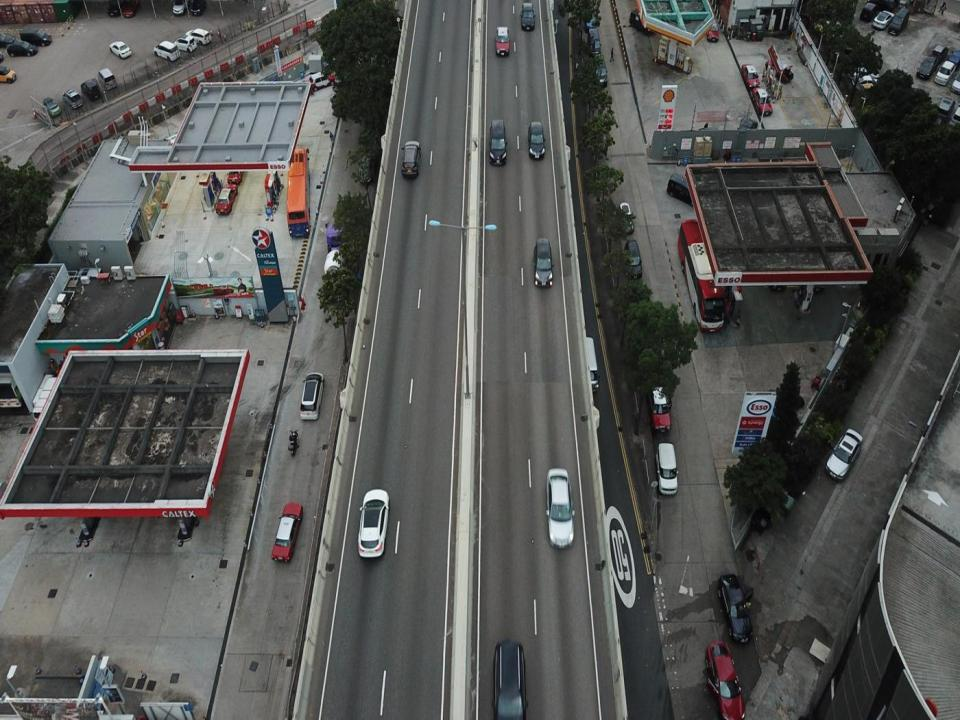bus: (676, 218, 726, 332)
car: (704, 641, 747, 719), (491, 638, 530, 719), (543, 469, 578, 552), (718, 569, 755, 647), (355, 487, 390, 559), (820, 426, 864, 481), (270, 498, 303, 559), (656, 441, 680, 498), (648, 380, 672, 437), (531, 234, 555, 290), (298, 373, 325, 420), (398, 135, 423, 181), (486, 118, 509, 165), (525, 116, 546, 162), (625, 236, 644, 282), (214, 182, 239, 216), (614, 198, 636, 236), (302, 70, 336, 92), (590, 51, 608, 90), (18, 28, 52, 48), (752, 84, 772, 117), (934, 58, 957, 86), (888, 7, 910, 36), (492, 23, 511, 56), (5, 39, 38, 58), (227, 151, 246, 183), (741, 61, 761, 90), (937, 92, 955, 124), (518, 1, 536, 31), (184, 25, 212, 44), (916, 54, 938, 78), (173, 33, 196, 55), (154, 40, 178, 61), (872, 9, 894, 31), (61, 86, 82, 109), (581, 6, 600, 31), (704, 13, 720, 42), (80, 78, 101, 100), (108, 40, 131, 60), (588, 26, 602, 56), (859, 1, 877, 24), (42, 97, 62, 117), (928, 43, 947, 63), (945, 46, 960, 67), (122, 0, 137, 19), (170, 0, 186, 15), (0, 67, 16, 82), (108, 0, 120, 19), (190, 0, 204, 16)
truck: (322, 216, 352, 292)
van: (574, 336, 600, 397), (666, 173, 703, 212), (626, 8, 657, 36), (97, 68, 116, 90)
